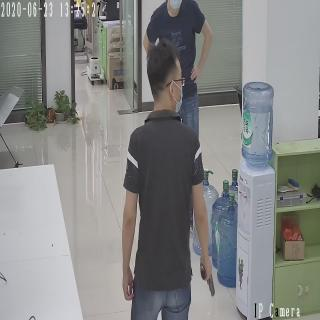gun: (198, 254, 215, 299)
